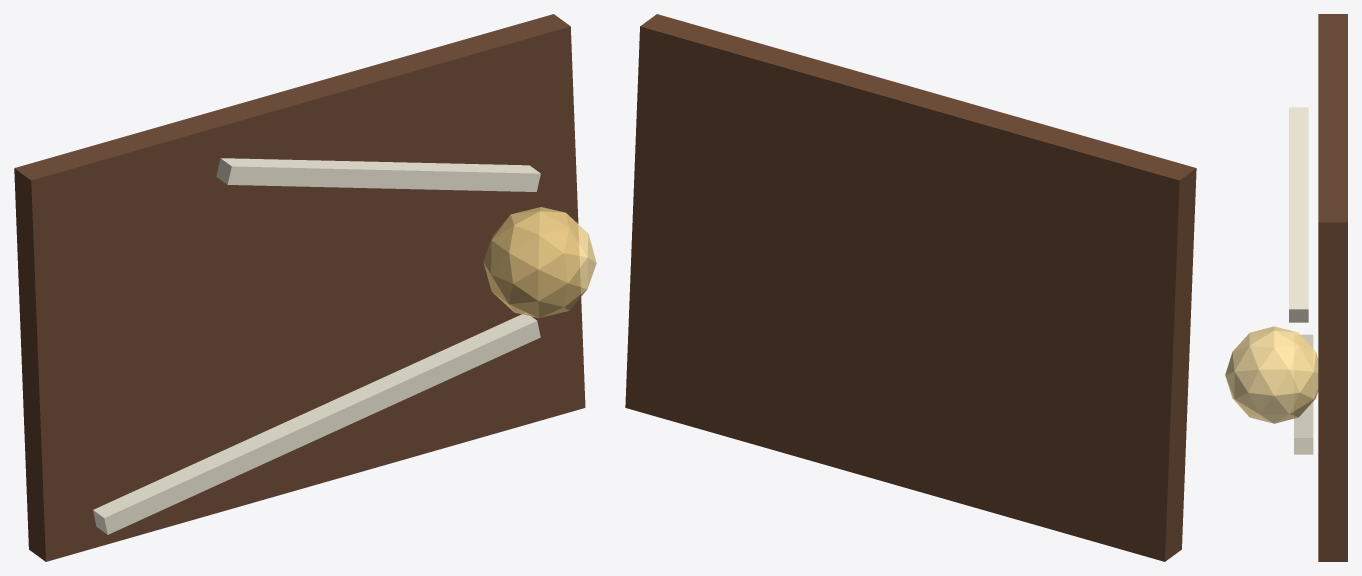
The model's file is 02_world_prop_polish.glb.
3 renders of one model, left to right at view 1: azimuth 30°, elevation 25°; view 2: azimuth 150°, elevation 25°; view 3: azimuth 270°, elevation 25°, orthographic. The views are drawn at different scales.
Visible parts, largest first — view 1: object_overlay_plate, edge_wear_a, glow_socket, edge_wear_b; view 2: object_overlay_plate; view 3: object_overlay_plate, glow_socket, edge_wear_b, edge_wear_a.
Part boxes in pixels (left/top/right/bottom): object_overlay_plate: left=14, top=14, right=585, bottom=561; edge_wear_a: left=93, top=313, right=540, bottom=534; glow_socket: left=483, top=207, right=596, bottom=317; edge_wear_b: left=216, top=158, right=540, bottom=191; object_overlay_plate: left=625, top=14, right=1196, bottom=561; object_overlay_plate: left=1318, top=14, right=1347, bottom=561; glow_socket: left=1225, top=326, right=1318, bottom=423; edge_wear_b: left=1289, top=107, right=1308, bottom=322; edge_wear_a: left=1294, top=334, right=1313, bottom=454.
Size of the model in its own units: 1.13 by 0.7932 by 0.25.
